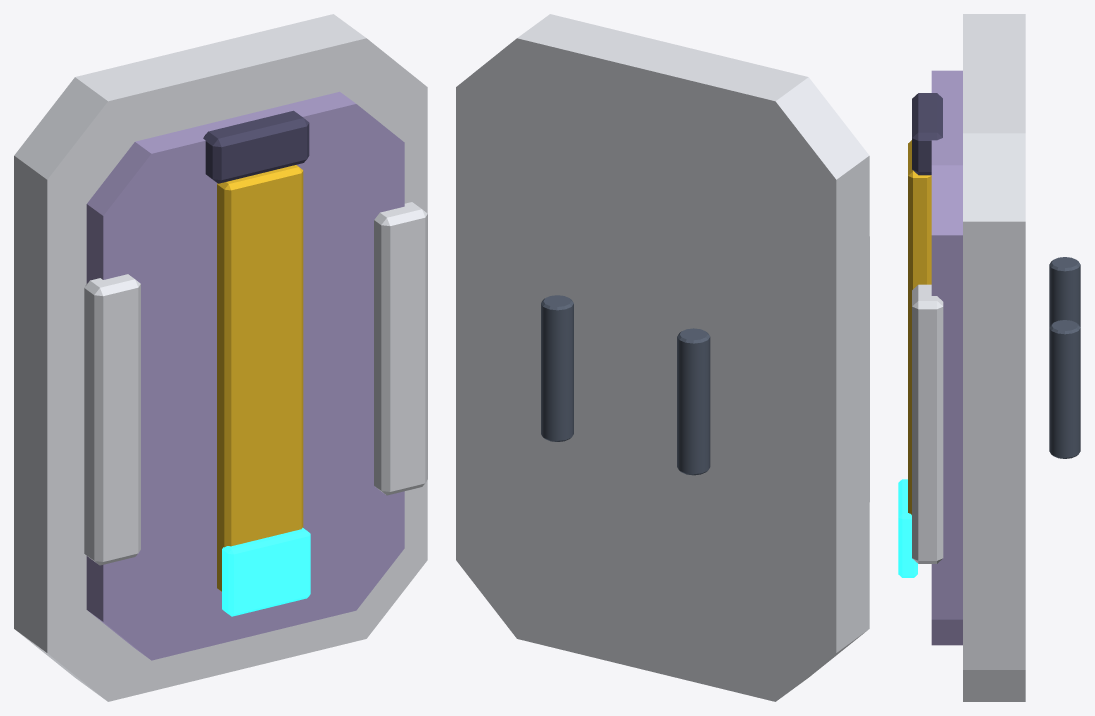
The model's file is Future_Shield_v002.fbx.
3 views of the same model, side by side, from view 1: azimuth 30°, elevation 25°; view 2: azimuth 150°, elevation 25°; view 3: azimuth 270°, elevation 25° (orthographic). The views are drawn at different scales.
Parts seen in each view (by area): view 1: Future_Shield__RECEIVER_MESH; view 2: Future_Shield__RECEIVER_MESH; view 3: Future_Shield__RECEIVER_MESH.
Boxes of the visible parts, x1,y1,x2,y2 form: Future_Shield__RECEIVER_MESH: (14, 14, 427, 701); Future_Shield__RECEIVER_MESH: (456, 14, 869, 701); Future_Shield__RECEIVER_MESH: (898, 14, 1080, 701).
Size of the model in its own units: 1.06 by 1.6 by 0.465.
